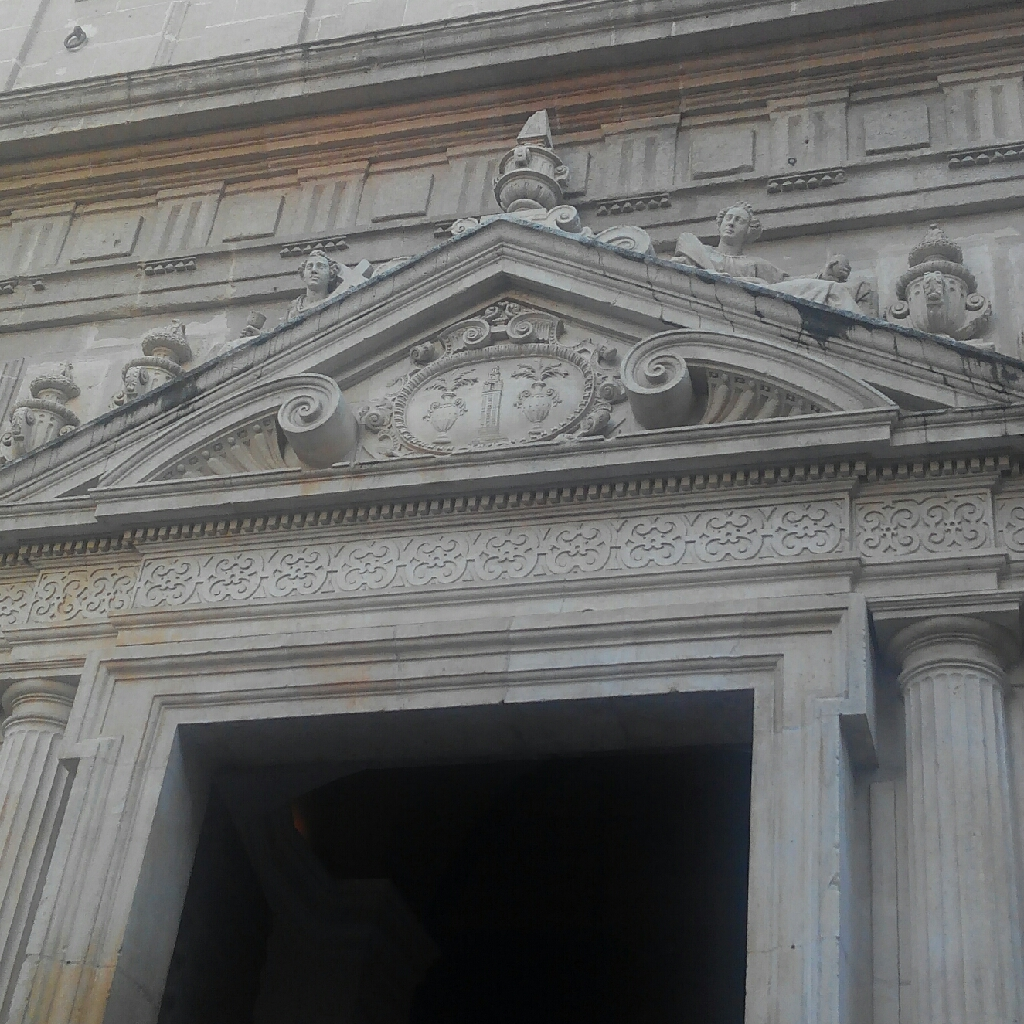fronton: (1, 217, 1024, 531)
fronton-partido: (84, 324, 902, 517)
